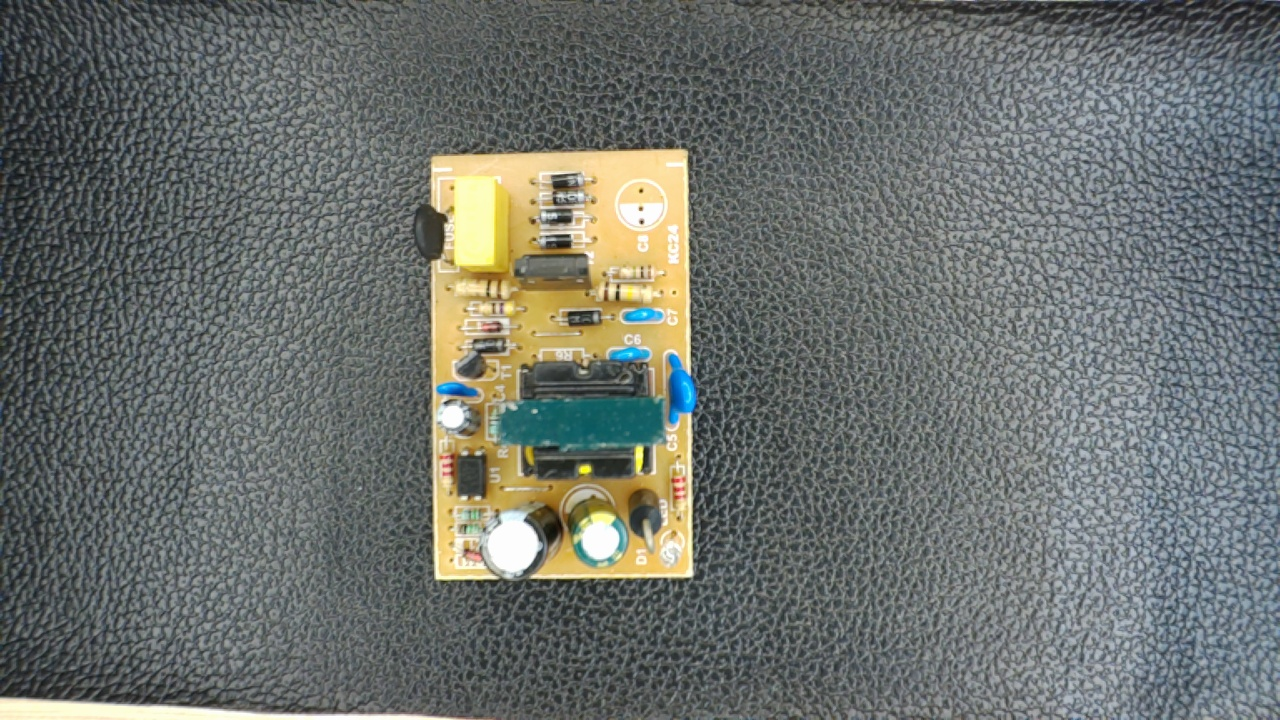fuse: (408, 198, 455, 267)
mov: (657, 344, 702, 431)
optocoupler: (450, 449, 492, 501)
